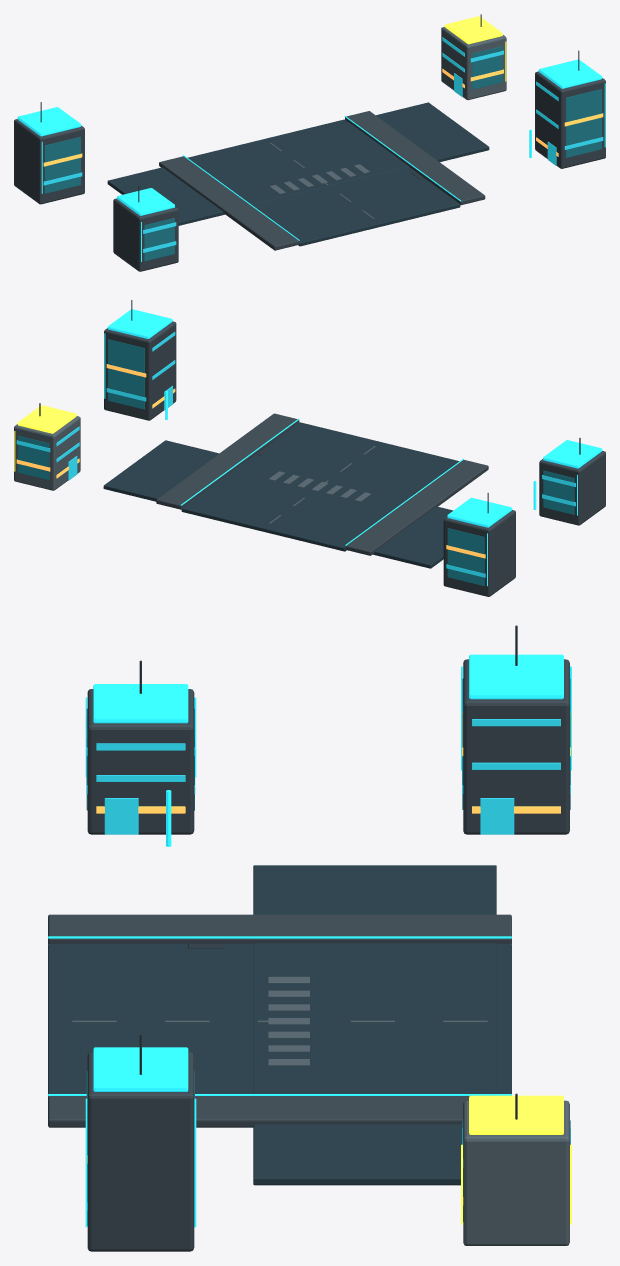
File: t_junction_lod1.glb
The picture shows the model from 3 angles, top to bottom: view 1: azimuth 30°, elevation 25°; view 2: azimuth 150°, elevation 25°; view 3: azimuth 270°, elevation 25°; orthographic projection. The views are drawn at different scales.
Visible parts, largest first — view 1: ND_Batch_ND_WetAsphalt, ND_Batch_ND_CityConcrete, ND_Batch_ND_RoadEdge, ND_Batch_ND_DarkGlass, ND_Batch_ND_CityCyanMuted, ND_Batch_ND_CityConcreteLight, ND_Batch_ND_NeonGlass, ND_Batch_ND_PackageGold, ND_Batch_ND_WarmWindow; view 2: ND_Batch_ND_WetAsphalt, ND_Batch_ND_CityConcrete, ND_Batch_ND_RoadEdge, ND_Batch_ND_DarkGlass, ND_Batch_ND_CityCyanMuted, ND_Batch_ND_CityConcreteLight, ND_Batch_ND_NeonGlass, ND_Batch_ND_PackageGold, ND_Batch_ND_WarmWindow; view 3: ND_Batch_ND_WetAsphalt, ND_Batch_ND_CityConcrete, ND_Batch_ND_RoadEdge, ND_Batch_ND_CityCyanMuted, ND_Batch_ND_CityConcreteLight, ND_Batch_ND_NeonGlass, ND_Batch_ND_PackageGold, ND_Batch_ND_WarmWindow, ND_Batch_ND_DarkGlass.
Boxes of the visible parts, bbox=[...] form: ND_Batch_ND_WetAsphalt: bbox=[107, 102, 489, 246]; ND_Batch_ND_CityConcrete: bbox=[14, 71, 605, 271]; ND_Batch_ND_RoadEdge: bbox=[159, 111, 485, 250]; ND_Batch_ND_DarkGlass: bbox=[44, 46, 601, 261]; ND_Batch_ND_CityCyanMuted: bbox=[17, 59, 605, 261]; ND_Batch_ND_CityConcreteLight: bbox=[269, 27, 506, 219]; ND_Batch_ND_NeonGlass: bbox=[43, 37, 603, 252]; ND_Batch_ND_PackageGold: bbox=[445, 16, 506, 81]; ND_Batch_ND_WarmWindow: bbox=[43, 68, 603, 166]; ND_Batch_ND_WetAsphalt: bbox=[103, 422, 459, 568]; ND_Batch_ND_CityConcrete: bbox=[104, 321, 605, 596]; ND_Batch_ND_RoadEdge: bbox=[156, 413, 488, 555]; ND_Batch_ND_DarkGlass: bbox=[18, 339, 574, 585]; ND_Batch_ND_CityCyanMuted: bbox=[104, 309, 602, 586]; ND_Batch_ND_CityConcreteLight: bbox=[14, 416, 375, 523]; ND_Batch_ND_NeonGlass: bbox=[16, 332, 575, 577]; ND_Batch_ND_PackageGold: bbox=[14, 405, 76, 471]; ND_Batch_ND_WarmWindow: bbox=[16, 364, 485, 558]; ND_Batch_ND_WetAsphalt: bbox=[48, 865, 511, 1185]; ND_Batch_ND_CityConcrete: bbox=[87, 659, 569, 1251]; ND_Batch_ND_RoadEdge: bbox=[48, 914, 511, 1127]; ND_Batch_ND_CityCyanMuted: bbox=[48, 654, 571, 1227]; ND_Batch_ND_CityConcreteLight: bbox=[72, 976, 569, 1245]; ND_Batch_ND_NeonGlass: bbox=[86, 717, 570, 1210]; ND_Batch_ND_PackageGold: bbox=[461, 1095, 571, 1224]; ND_Batch_ND_WarmWindow: bbox=[87, 711, 570, 1205]; ND_Batch_ND_DarkGlass: bbox=[86, 678, 570, 1225].
Bounding box in the file's own units: 47.1 × 10.03 × 22.59.
